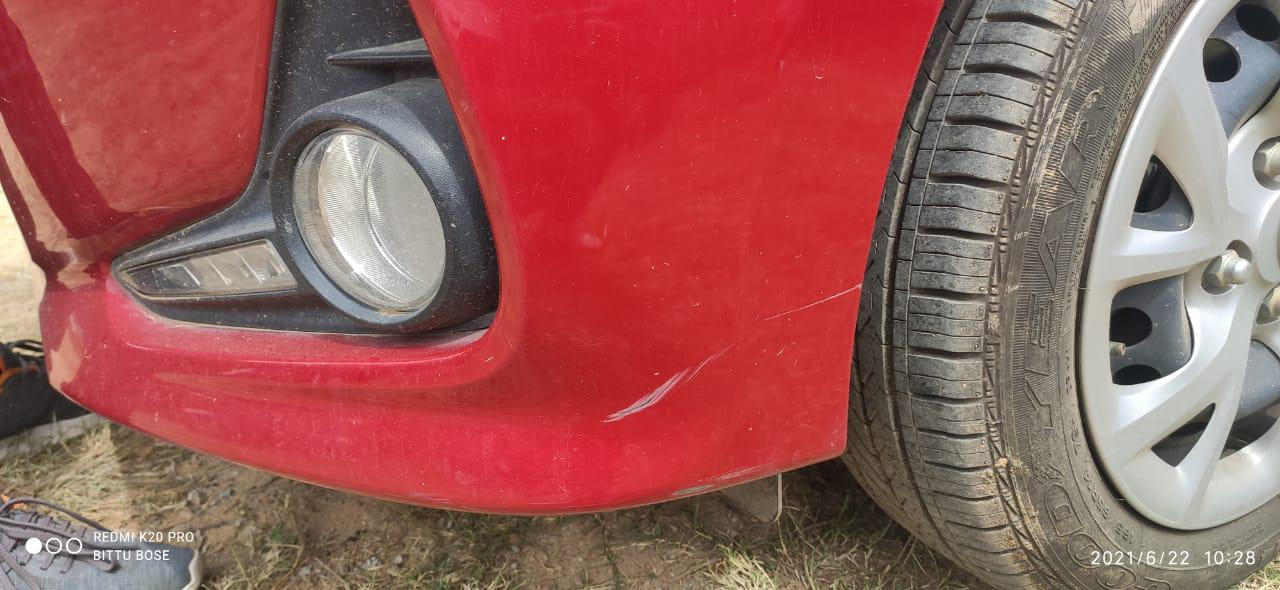front-bumper-dent: (238, 108, 891, 525)
